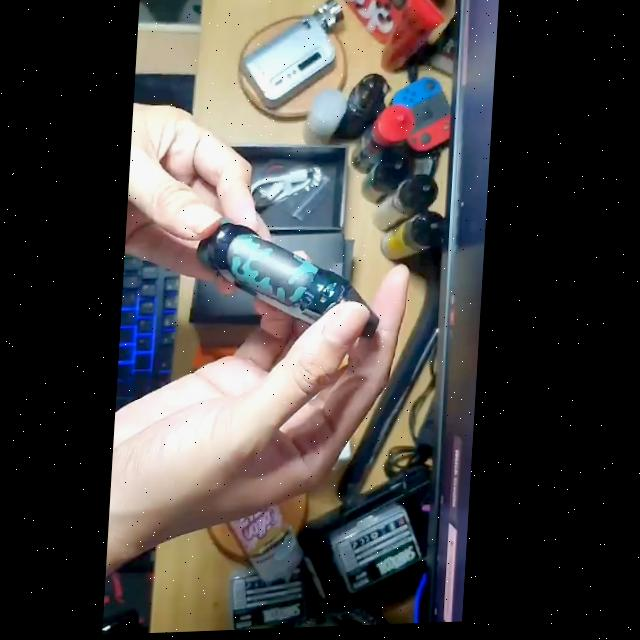vape: (195, 219, 391, 349), (236, 0, 346, 119)
